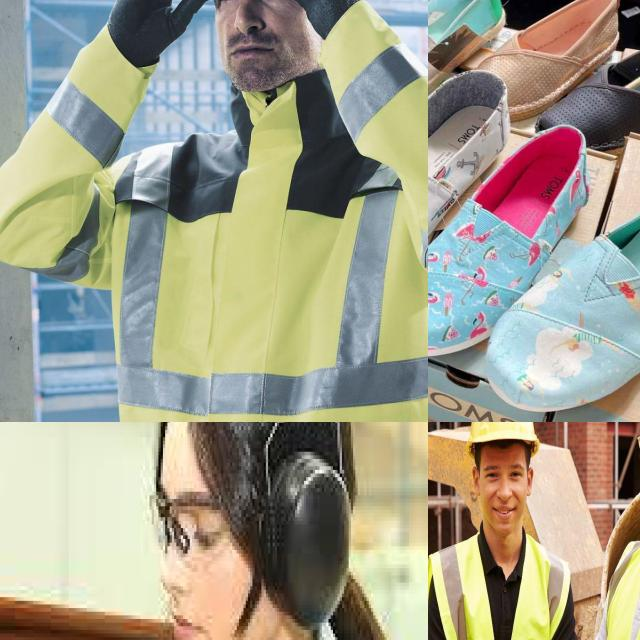Ear-protection: (238, 422, 375, 631)
No_Ear-Protection: (470, 463, 484, 500), (525, 464, 535, 498)
No_Glasses: (480, 453, 531, 490)
Sandals: (428, 113, 602, 379), (473, 151, 640, 422), (428, 50, 512, 306)
face_nomask: (199, 0, 308, 99), (472, 457, 538, 531)
hand_glove: (85, 0, 209, 58)
head_helmet: (466, 422, 540, 454)
person: (0, 0, 428, 422), (428, 422, 577, 640)
vest: (106, 138, 428, 422), (428, 529, 566, 640)
